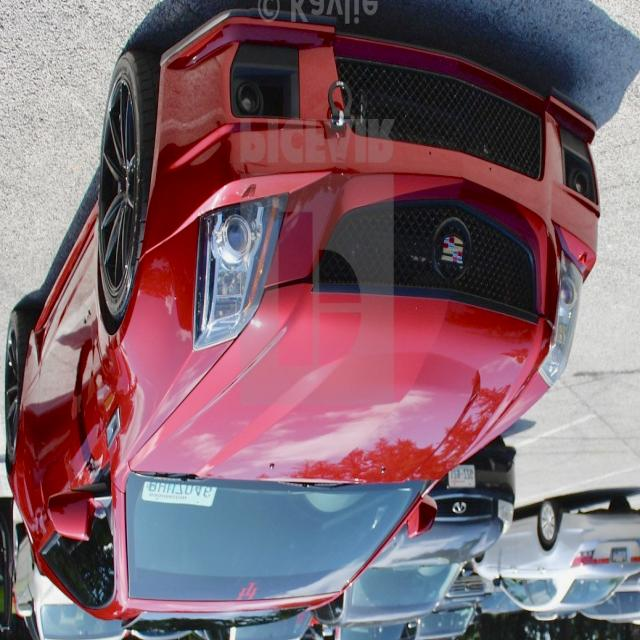maroon: (11, 39, 598, 626)
